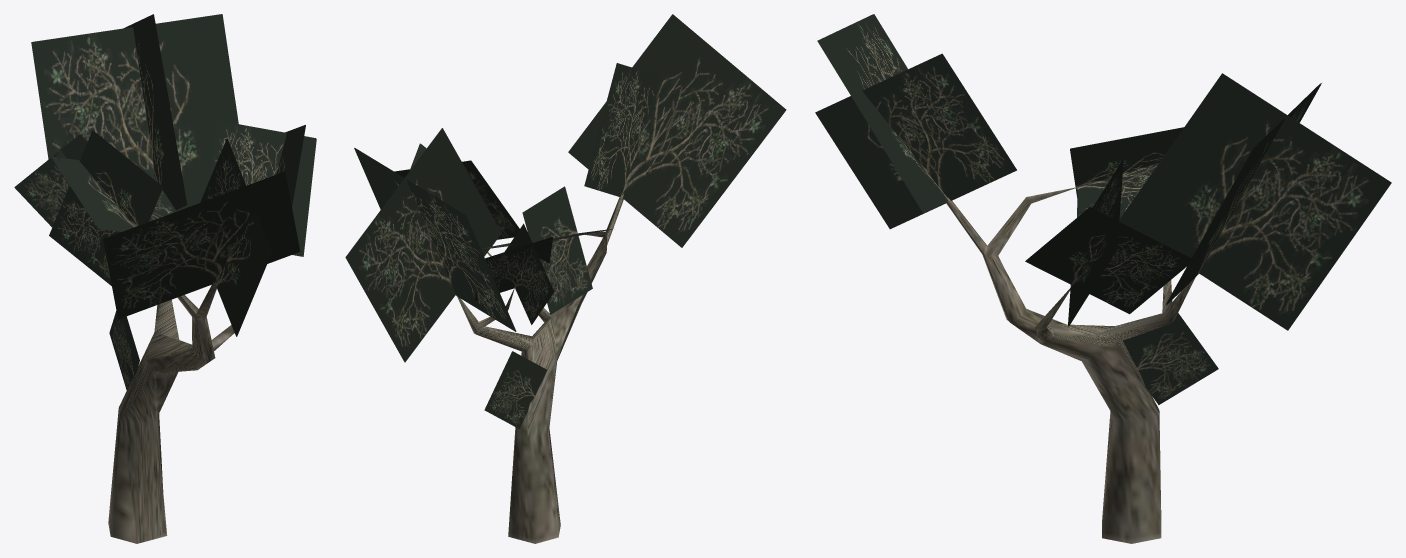
File: mtns_shrb_gnarled_l2.fbx
3 views of the same model, side by side, from view 1: azimuth 30°, elevation 25°; view 2: azimuth 150°, elevation 25°; view 3: azimuth 270°, elevation 25° (orthographic). The views are drawn at different scales.
Visible parts, largest first — view 1: mesh_node; view 2: mesh_node; view 3: mesh_node.
Part boxes in pixels (x1,y1,x2,y2): mesh_node: [14, 14, 316, 543]; mesh_node: [345, 14, 786, 543]; mesh_node: [815, 14, 1391, 543].
Size of the model in its own units: 3.64 by 4.95 by 5.3.
